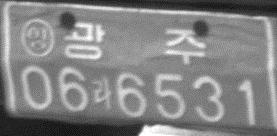0: (20, 64, 52, 111)
1: (233, 78, 265, 126)
3: (192, 75, 225, 123)
5: (154, 73, 185, 120)
6: (56, 66, 88, 112), (116, 71, 147, 118)
광주_D: (61, 21, 206, 65)
라: (91, 75, 113, 108)
영: (19, 17, 55, 57)
